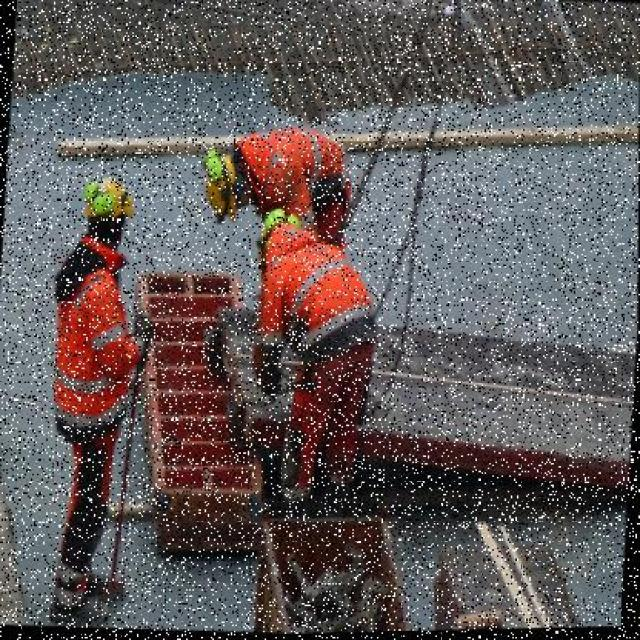vest: (35, 254, 143, 490), (258, 220, 380, 345)
